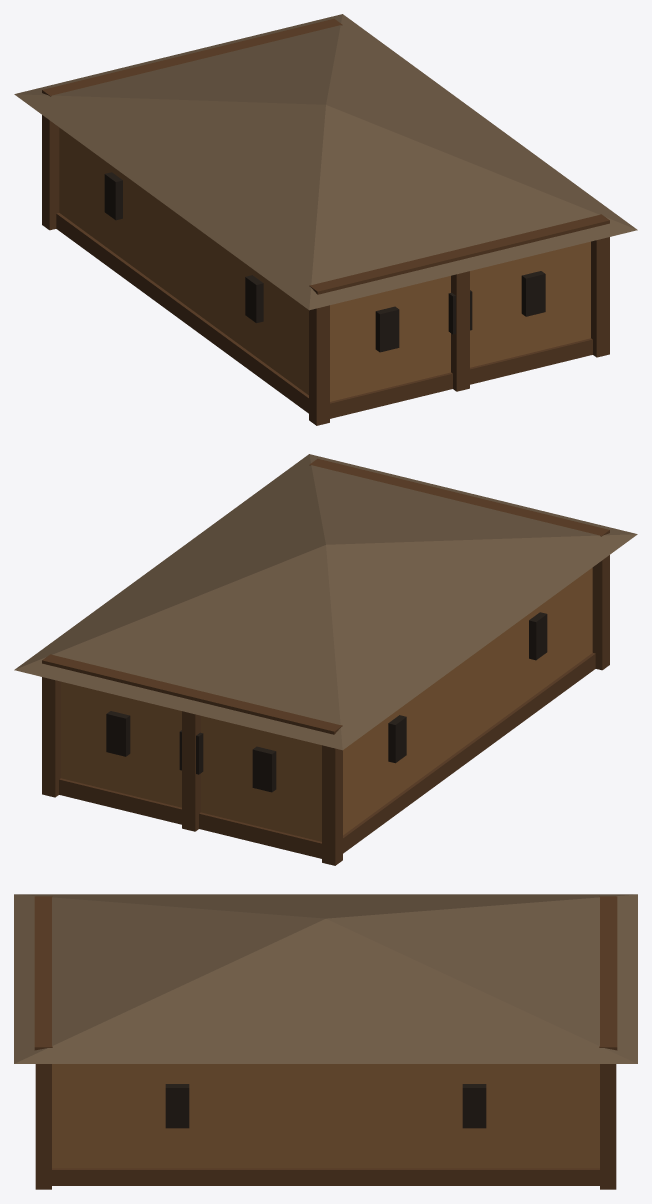
Rendered from siege_hoarding.glb.
3 views of the same model, one above another, from view 1: azimuth 30°, elevation 25°; view 2: azimuth 150°, elevation 25°; view 3: azimuth 270°, elevation 25° (orthographic). The views are drawn at different scales.
Visible parts, largest first — view 1: siege_hoarding; view 2: siege_hoarding; view 3: siege_hoarding.
Boxes of the visible parts, left/top/right/bottom form: siege_hoarding: left=14, top=14, right=637, bottom=425; siege_hoarding: left=14, top=454, right=637, bottom=865; siege_hoarding: left=14, top=894, right=637, bottom=1189.
Size of the model in its own units: 5.4 by 2.9 by 8.4.
